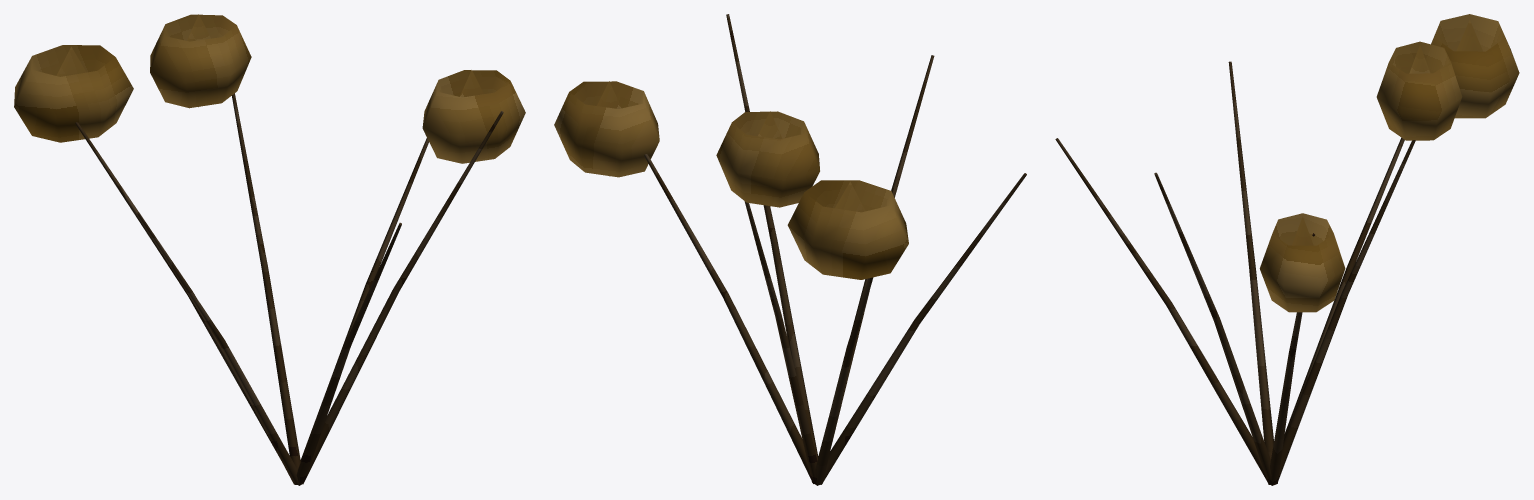
File: brush_dry01-lod1.glb
The picture shows the model from 3 angles, left to right: view 1: azimuth 30°, elevation 25°; view 2: azimuth 150°, elevation 25°; view 3: azimuth 270°, elevation 25°; orthographic projection. The views are drawn at different scales.
Parts seen in each view (by area): view 1: TZ_filbert_shrub_Batch_00_LOD1, TZ_filbert_shrub_Batch_01_LOD1; view 2: TZ_filbert_shrub_Batch_00_LOD1, TZ_filbert_shrub_Batch_01_LOD1; view 3: TZ_filbert_shrub_Batch_00_LOD1, TZ_filbert_shrub_Batch_01_LOD1.
Part boxes in pixels (x1=…): TZ_filbert_shrub_Batch_00_LOD1: x1=14, y1=14, x2=525, y2=163; TZ_filbert_shrub_Batch_01_LOD1: x1=75, y1=93, x2=503, y2=485; TZ_filbert_shrub_Batch_00_LOD1: x1=554, y1=81, x2=908, y2=279; TZ_filbert_shrub_Batch_01_LOD1: x1=644, y1=14, x2=1026, y2=485; TZ_filbert_shrub_Batch_00_LOD1: x1=1259, y1=14, x2=1519, y2=312; TZ_filbert_shrub_Batch_01_LOD1: x1=1055, y1=61, x2=1415, y2=485.
Bounding box in the file's own units: 1.71 × 1.65 × 1.63.
Materials: 2 (2 with a texture image).
